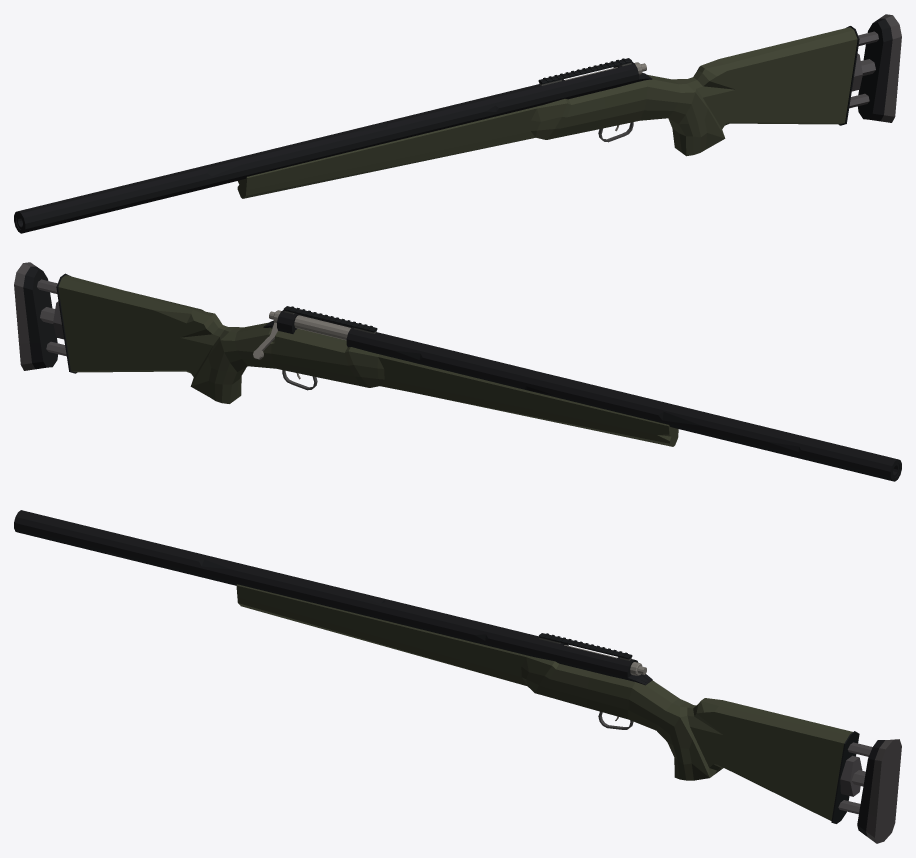
The model's file is Sniper_Rifle_01.gltf.
The picture shows the model from 3 angles, top to bottom: view 1: azimuth 30°, elevation 25°; view 2: azimuth 150°, elevation 25°; view 3: azimuth 330°, elevation 25°; orthographic projection.
Visible parts, largest first — view 1: Sniper_Rifle_01; view 2: Sniper_Rifle_01, Gate_05; view 3: Sniper_Rifle_01.
Part boxes in pixels (x1,y1,x2,y2): Sniper_Rifle_01: (14, 14, 901, 233); Sniper_Rifle_01: (14, 262, 901, 481); Gate_05: (253, 310, 350, 359); Sniper_Rifle_01: (14, 510, 901, 843).
Bounding box in the file's own units: 1.25 × 0.17 × 0.0604.
